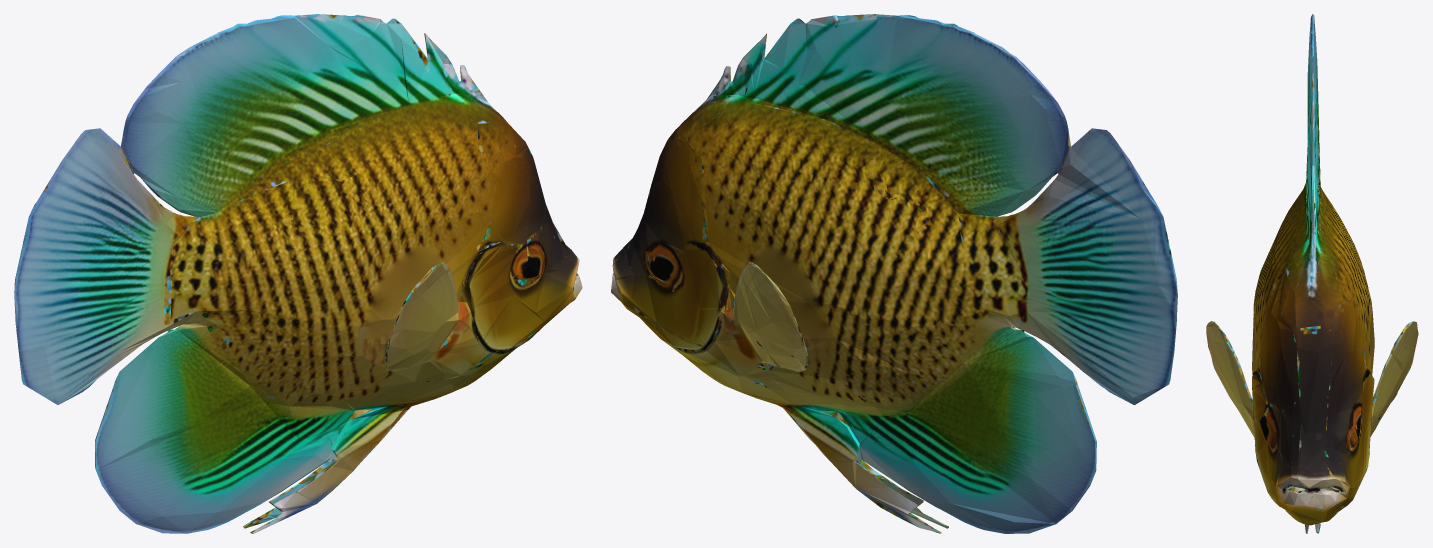
File: fish_0124_smpl23_resized.glb
3 renders of one model, left to right at view 1: azimuth 30°, elevation 25°; view 2: azimuth 150°, elevation 25°; view 3: azimuth 270°, elevation 25°, orthographic. The views are drawn at different scales.
Visible parts, largest first — view 1: world; view 2: world; view 3: world.
Part boxes in pixels (box(x1,y1,x2,y2)): world: box(14, 14, 582, 533); world: box(611, 14, 1177, 533); world: box(1206, 14, 1418, 533).
Size of the model in its own units: 1.99 by 1.72 by 0.682.
1 material, 1 textured.
